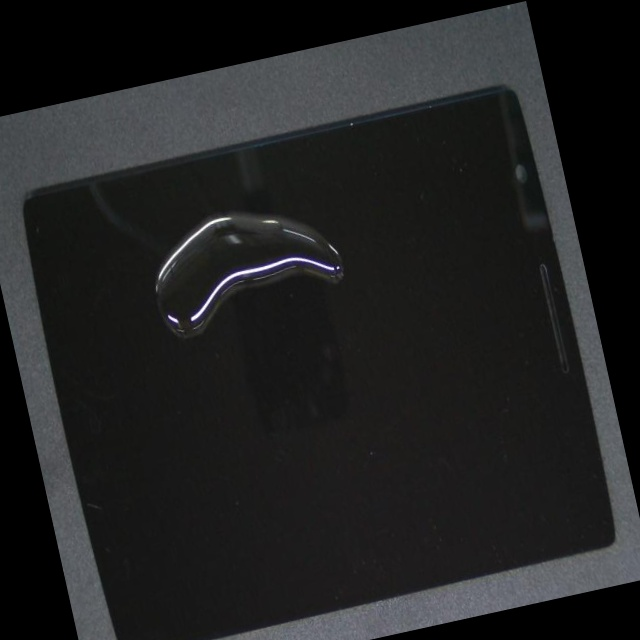oil: (95, 125, 476, 416)
